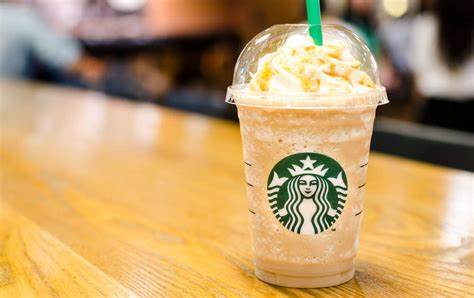starbucks Originale: (259, 143, 355, 245)
